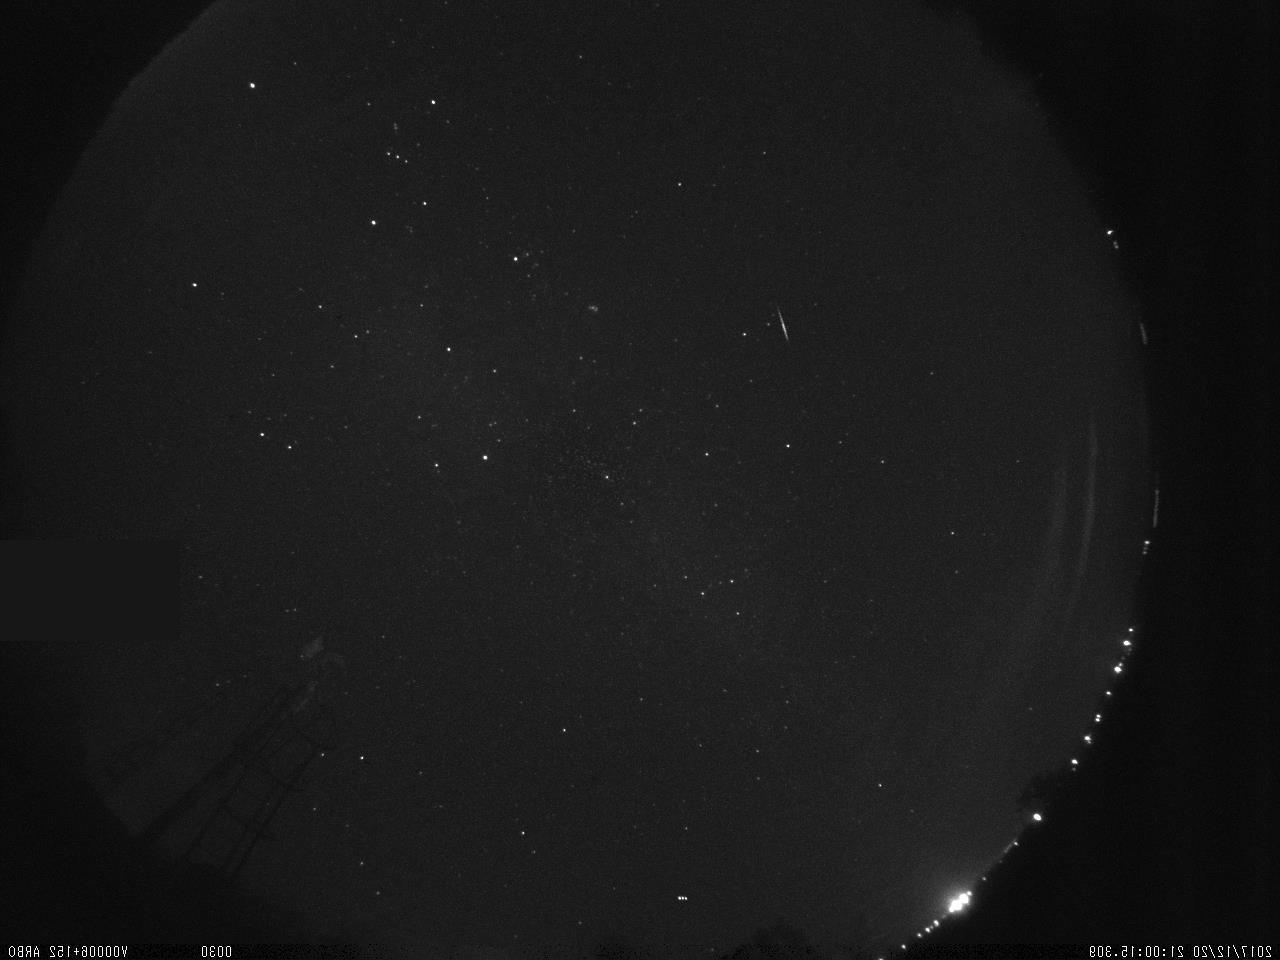meteor: (750, 292, 809, 349)
